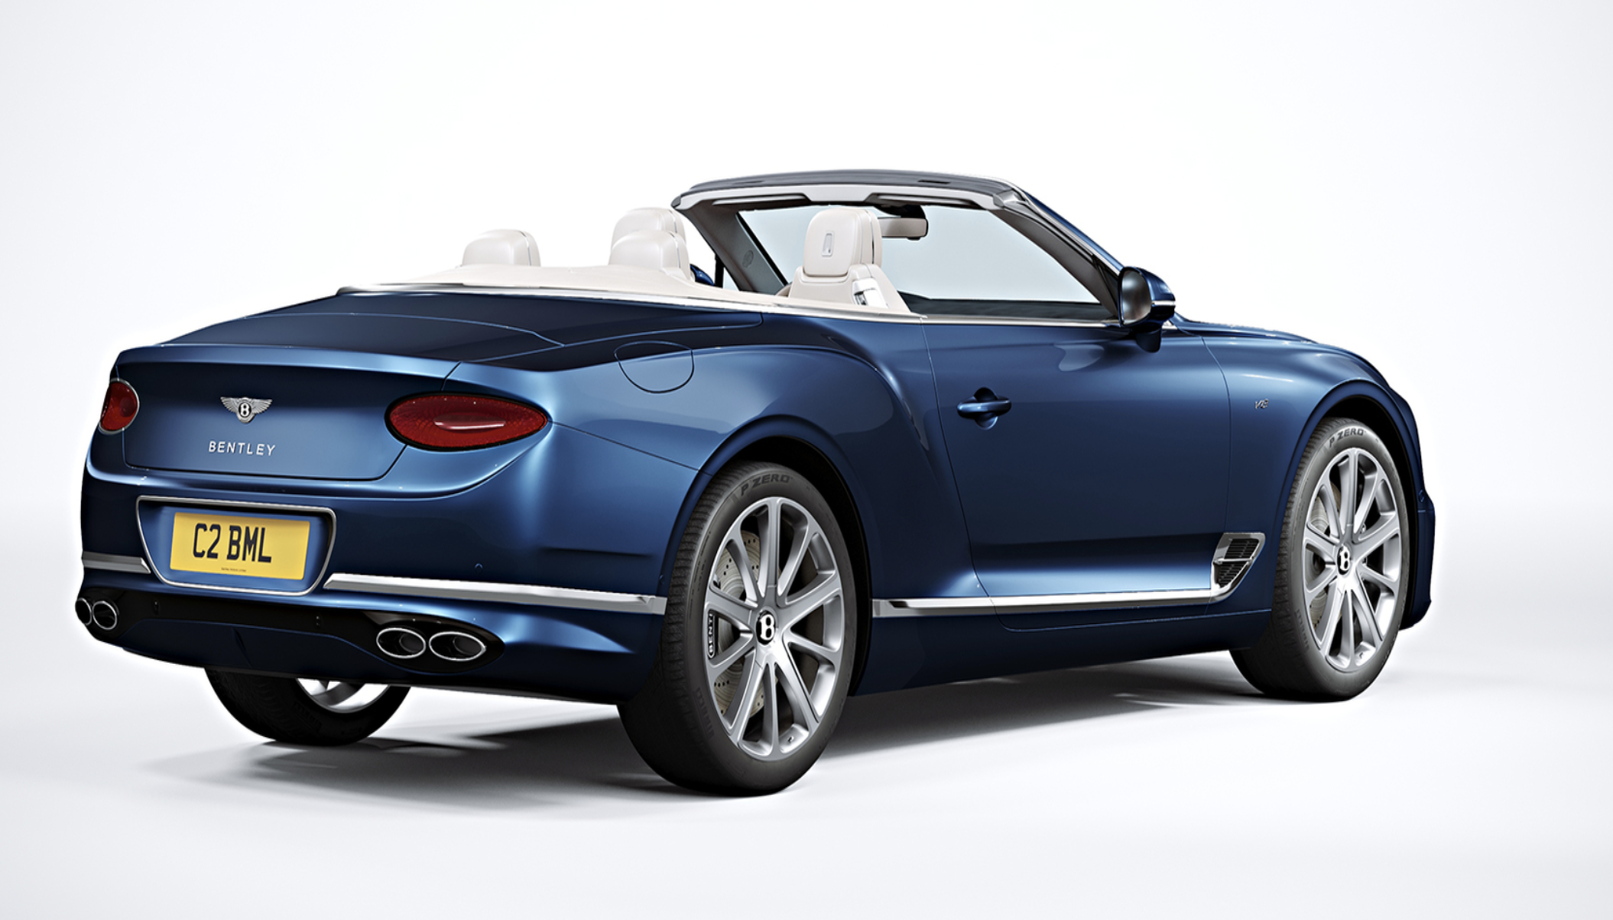hatch: (608, 333, 703, 401)
